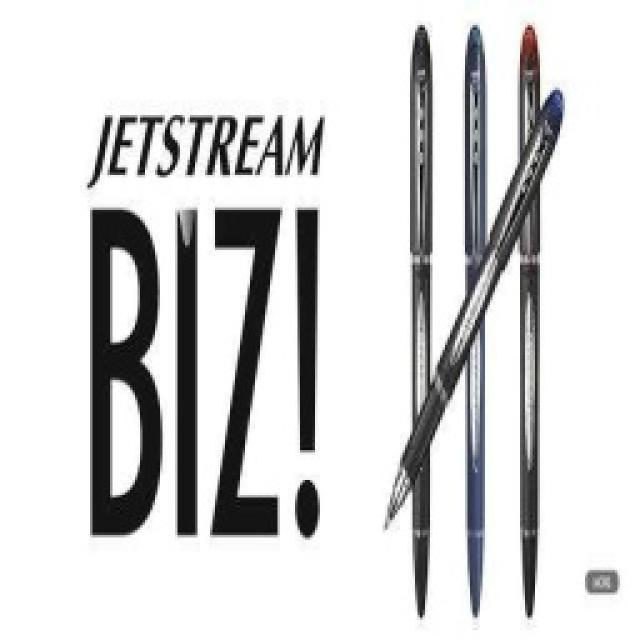pencil: (82, 108, 328, 542)
